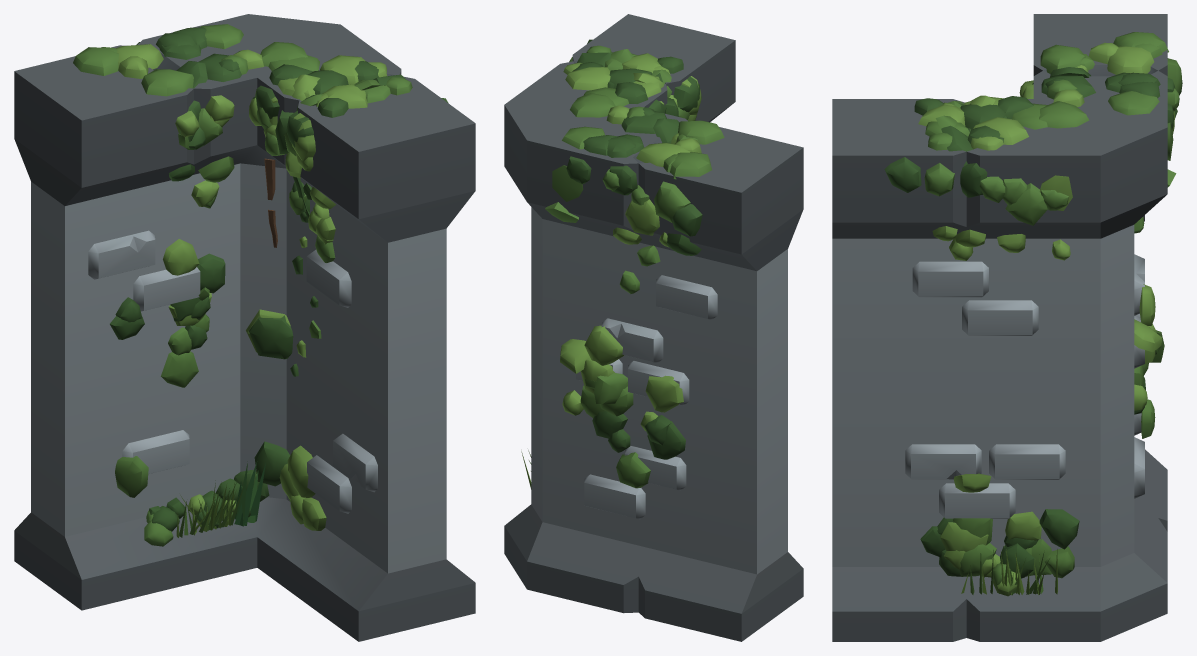
Rendered from wall_mossy_corner_B.glb.
3 views of the same model, side by side, from view 1: azimuth 30°, elevation 25°; view 2: azimuth 150°, elevation 25°; view 3: azimuth 270°, elevation 25° (orthographic). The views are drawn at different scales.
Parts seen in each view (by area): view 1: Item; view 2: Item; view 3: Item.
Part boxes in pixels (x1,y1,x2,y2): Item: [14, 14, 475, 641]; Item: [504, 14, 803, 641]; Item: [832, 14, 1182, 641].
Size of the model in its own units: 2.6 by 4.12 by 2.61.
Materials: 3 (3 with a texture image).
